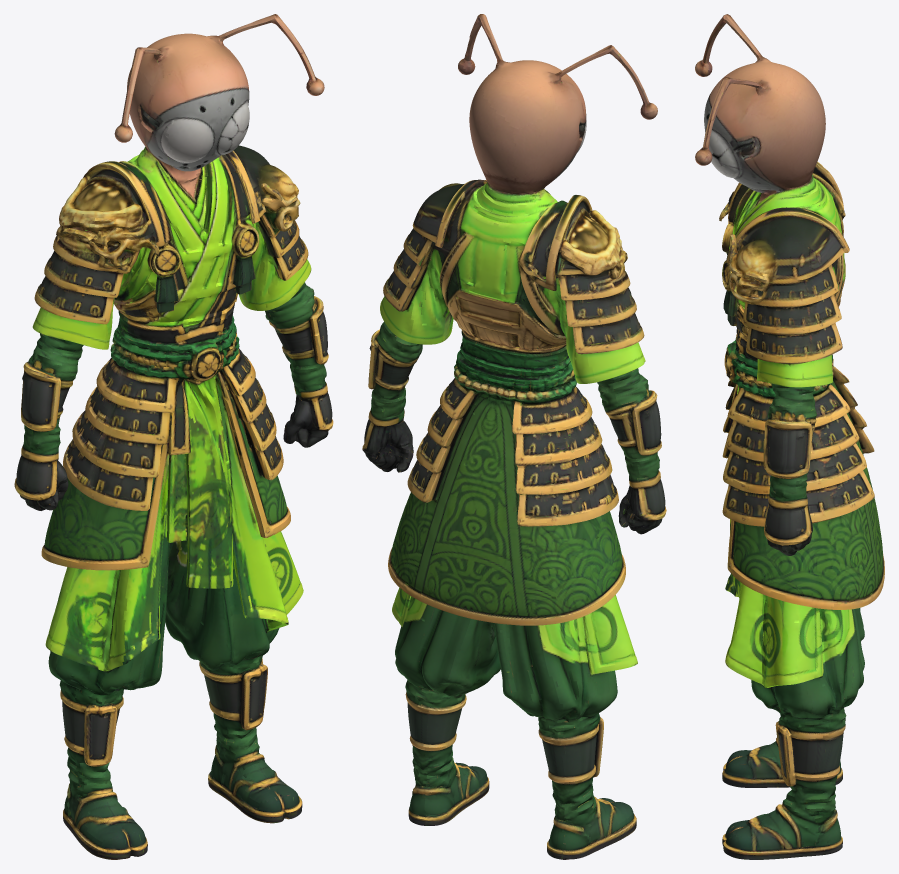
File: rebel_4998_static_source_shogun_v4b_refpose.glb
The picture shows the model from 3 angles, left to right: view 1: azimuth 30°, elevation 25°; view 2: azimuth 150°, elevation 25°; view 3: azimuth 270°, elevation 25°; orthographic projection. The views are drawn at different scales.
Visible parts, largest first — view 1: Mesh_0; view 2: Mesh_0; view 3: Mesh_0.
Boxes of the visible parts, x1,y1,x2,y2 form: Mesh_0: [14, 14, 333, 859]; Mesh_0: [362, 14, 666, 859]; Mesh_0: [695, 14, 884, 859].
Size of the model in its own units: 0.7644 by 1.9 by 0.4265.
Materials: 1 (1 with a texture image).
